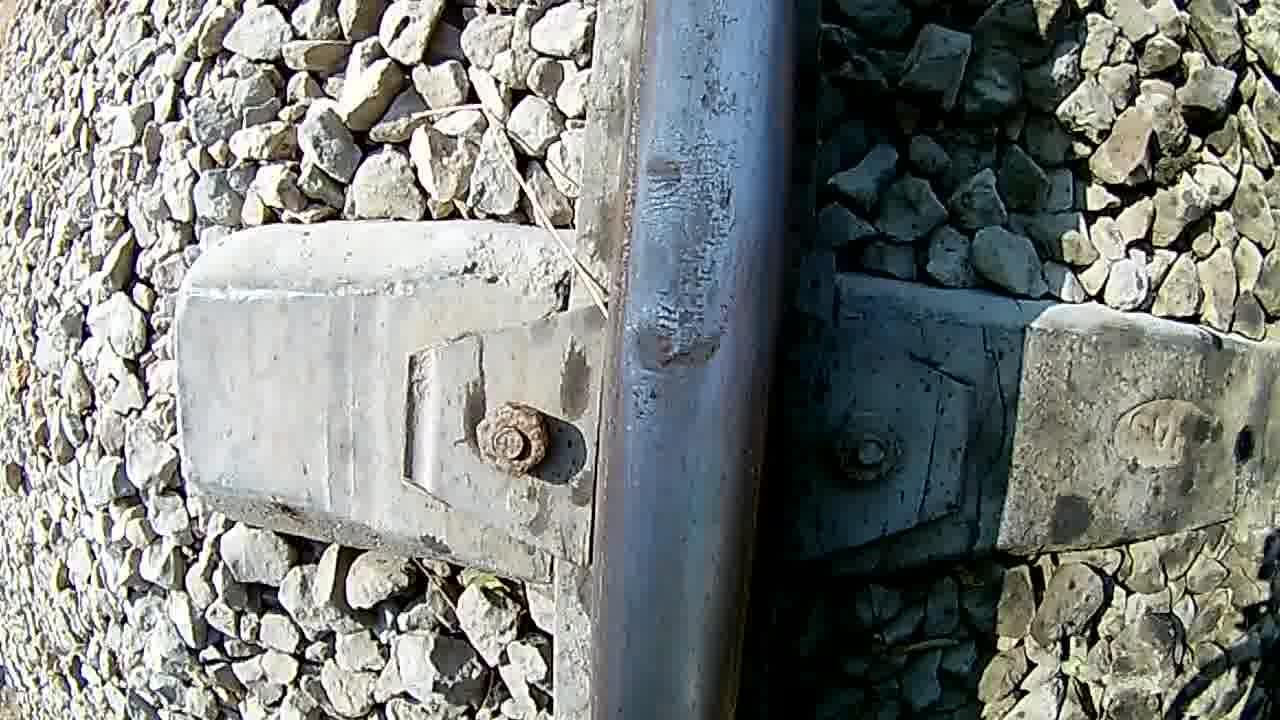crack: (590, 0, 796, 720)
